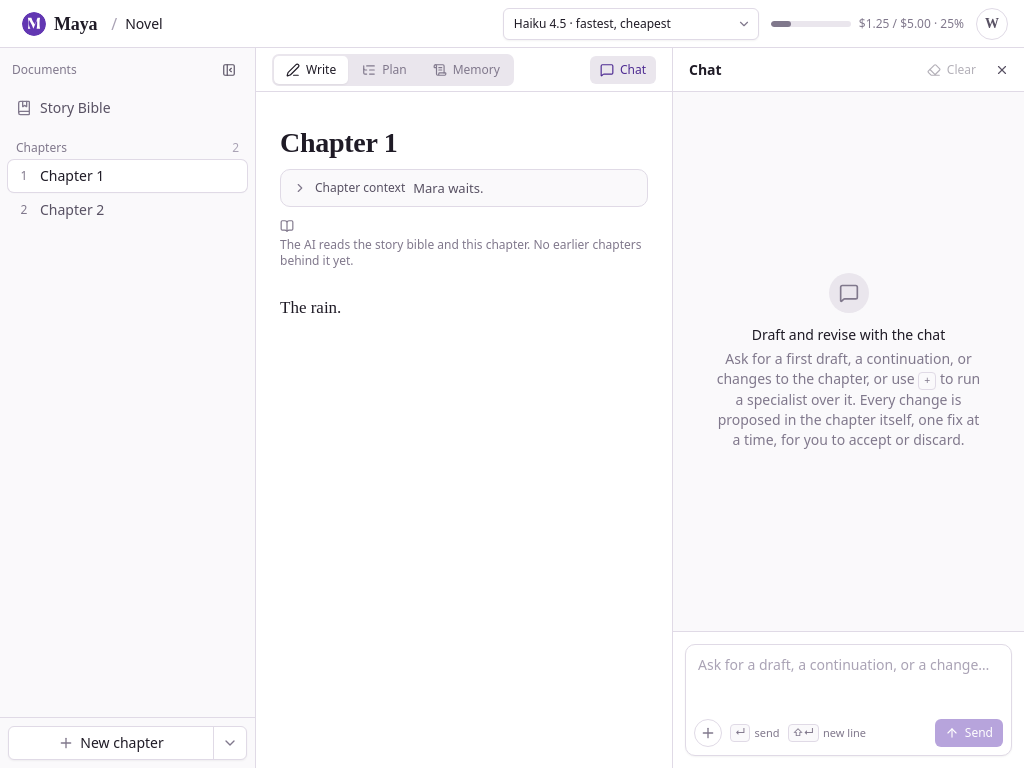
it: WorkspaceScreen › drafts from a chat message: streams, reviews in the editor, accepts, autosaves
expect the field named "Document body" is shown: met, box [280,298,341,317]
Type "Draft it." into the text box named "Message" at point(848, 680), box [686,645,1011,715]
Then press Enter
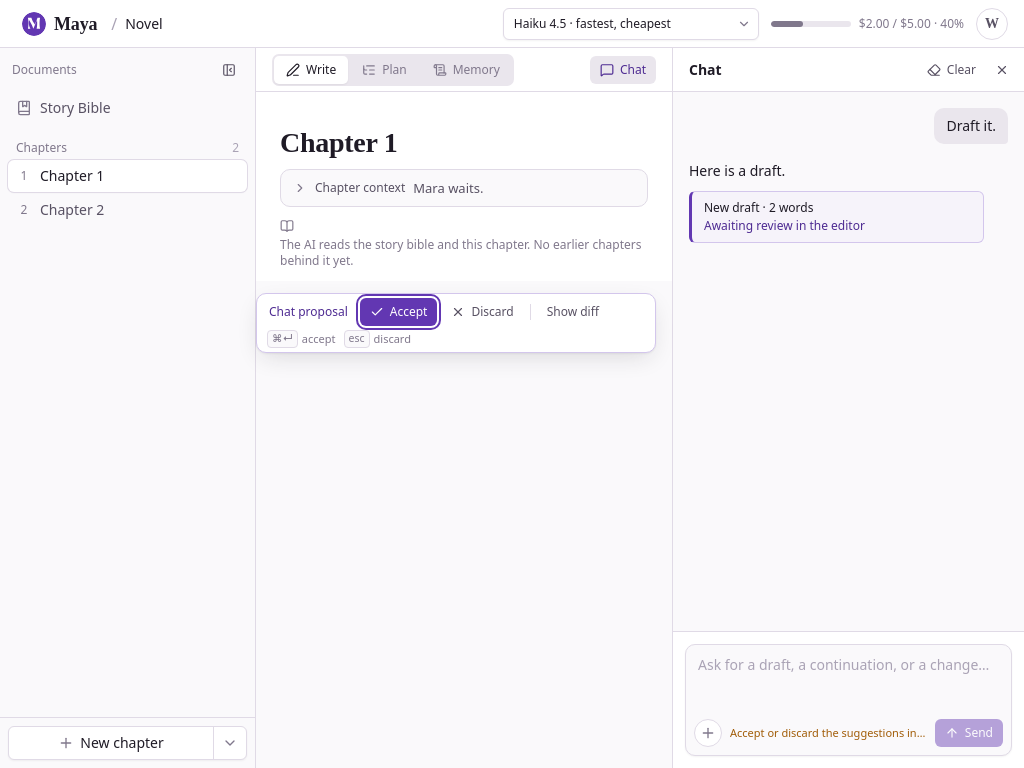
expect the element named "review proposal" is shown: met, box [256,293,656,353]
expect the text "Here is a draft." is shown: met, box [689,161,785,180]
expect the text "$2.00 / $5.00 · 40%" is shown: met, box [859,16,964,32]
Click the button "Accept" at point(399, 312), box [360,298,438,326]
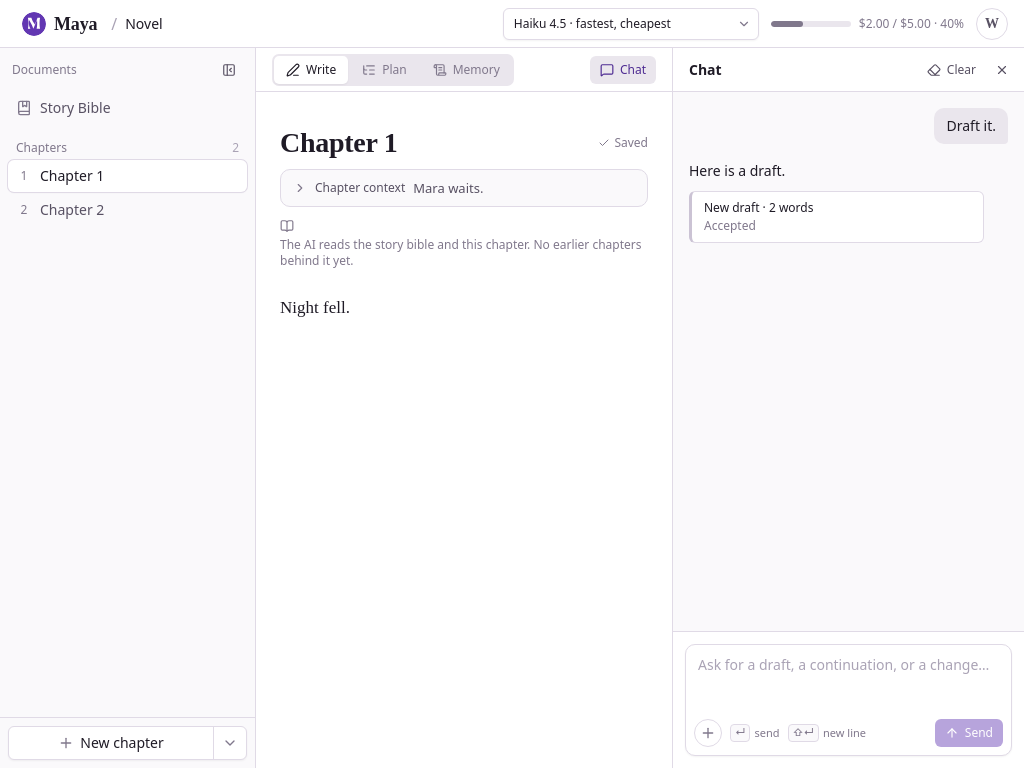
expect the text box named "Message" is enabled: met, box [686,645,1011,715]
expect the text box labelled "Night fell." is shown: met, box [280,298,350,317]
expect the text "Accepted" is shown: met, box [704,217,756,234]
